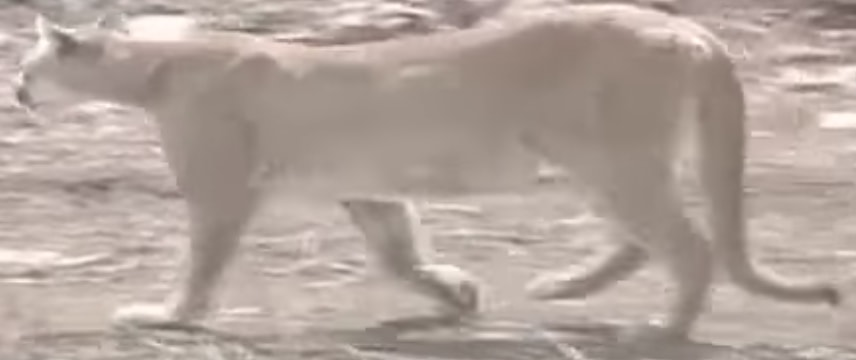Mountain Lion: (4, 9, 842, 347)
